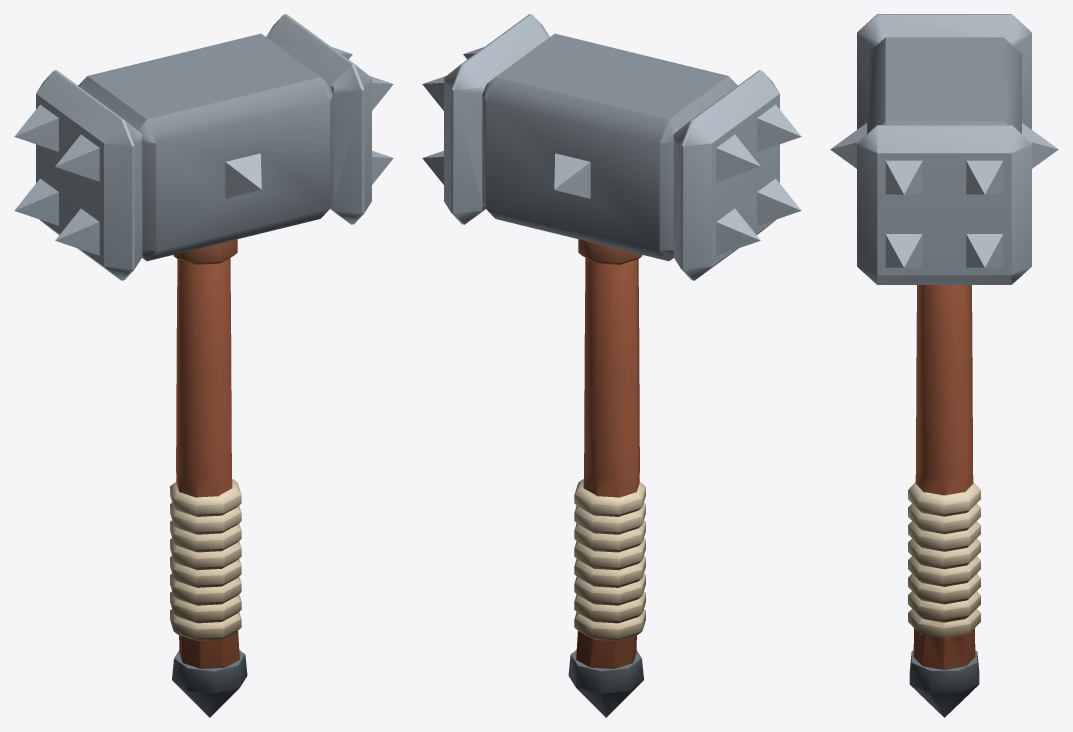
Rendered from warhammer_spiked.glb.
3 renders of one model, left to right at view 1: azimuth 30°, elevation 25°; view 2: azimuth 150°, elevation 25°; view 3: azimuth 270°, elevation 25°, orthographic.
Visible parts, largest first — view 1: Item; view 2: Item; view 3: Item.
Boxes of the visible parts, x1=… form: Item: x1=14, y1=14, x2=393, y2=717; Item: x1=422, y1=14, x2=801, y2=717; Item: x1=830, y1=14, x2=1058, y2=717.
Size of the model in its own units: 1.15 by 2.12 by 0.68.
Materials: 2 (2 with a texture image).
